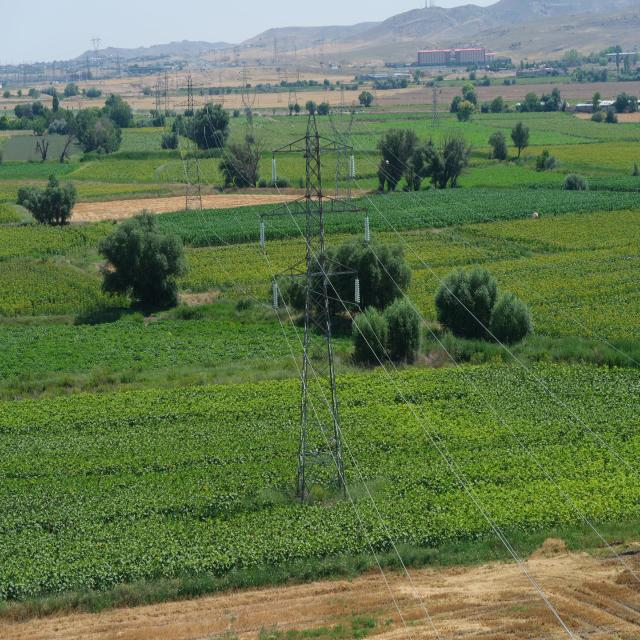direk: (292, 116, 350, 499), (173, 115, 206, 215), (326, 104, 353, 200), (236, 65, 254, 110), (184, 75, 196, 124), (431, 91, 439, 129)
tree: (308, 242, 415, 365), (102, 209, 184, 307), (436, 266, 528, 344), (382, 130, 466, 190), (77, 100, 121, 156), (24, 177, 73, 217), (192, 103, 228, 157), (522, 87, 564, 116), (454, 86, 476, 120), (484, 98, 505, 111)
